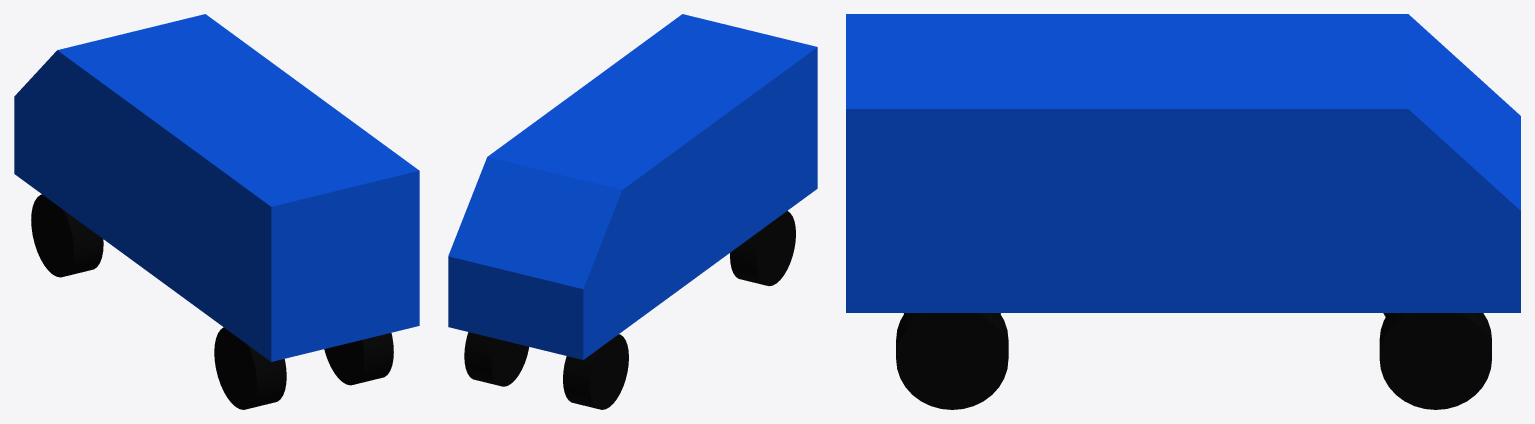
Rendered from bus.glb.
The picture shows the model from 3 angles, left to right: view 1: azimuth 30°, elevation 25°; view 2: azimuth 150°, elevation 25°; view 3: azimuth 270°, elevation 25°; orthographic projection. The views are drawn at different scales.
Parts seen in each view (by area): view 1: Cube; view 2: Cube; view 3: Cube.
Part boxes in pixels (x1,y1,x2,y2): Cube: [14, 14, 419, 409]; Cube: [448, 14, 817, 409]; Cube: [846, 14, 1520, 409].
Size of the model in its own units: 2 by 3 by 6.
